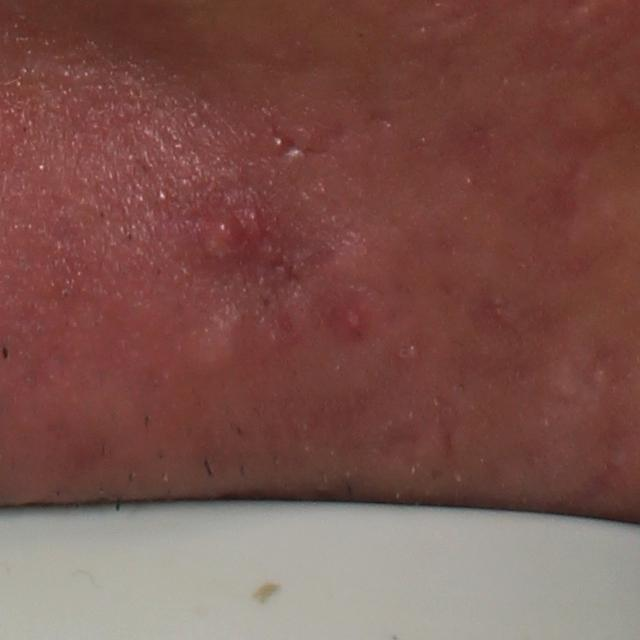hypertrophic_scar: (179, 301, 254, 373)
